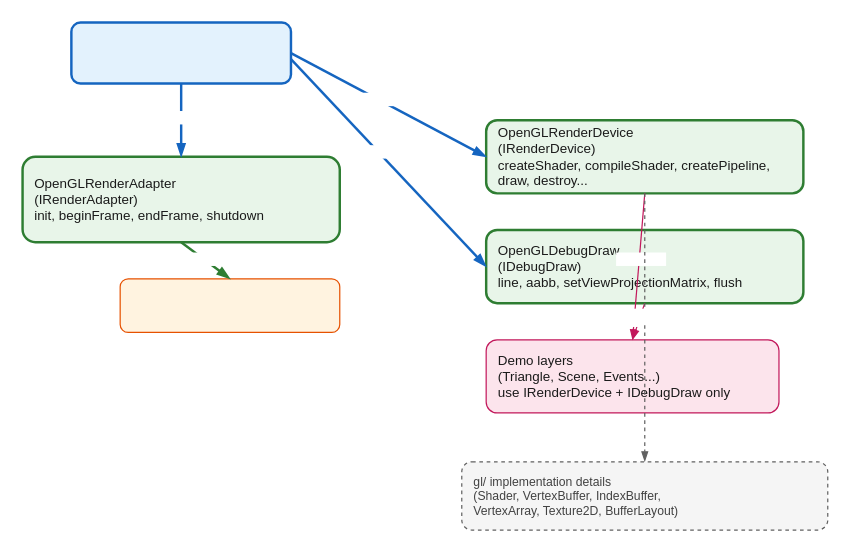
The diagram is 849 pixels wide and 551 high, and some of its shapes have lost their labels. The box of each missing label's shape, as (x1, y1, x2, y2) in pixels:
OpenGLContext + glad (GL 4.1 or ES 3.0): (119, 278, 340, 332)
Runner (e.g. 03_opengl_renderer): (70, 21, 292, 84)
